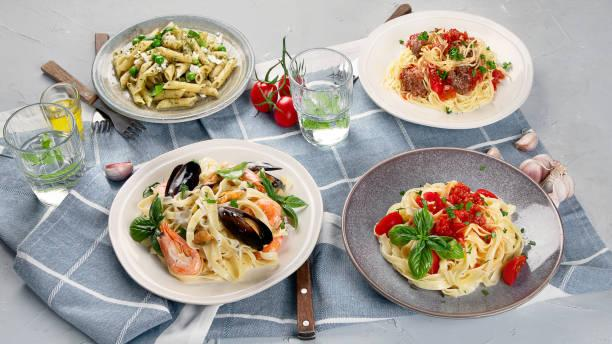Braised Crucian Carp: (341, 147, 560, 318), (107, 138, 319, 304), (355, 10, 533, 132), (91, 14, 252, 124)
